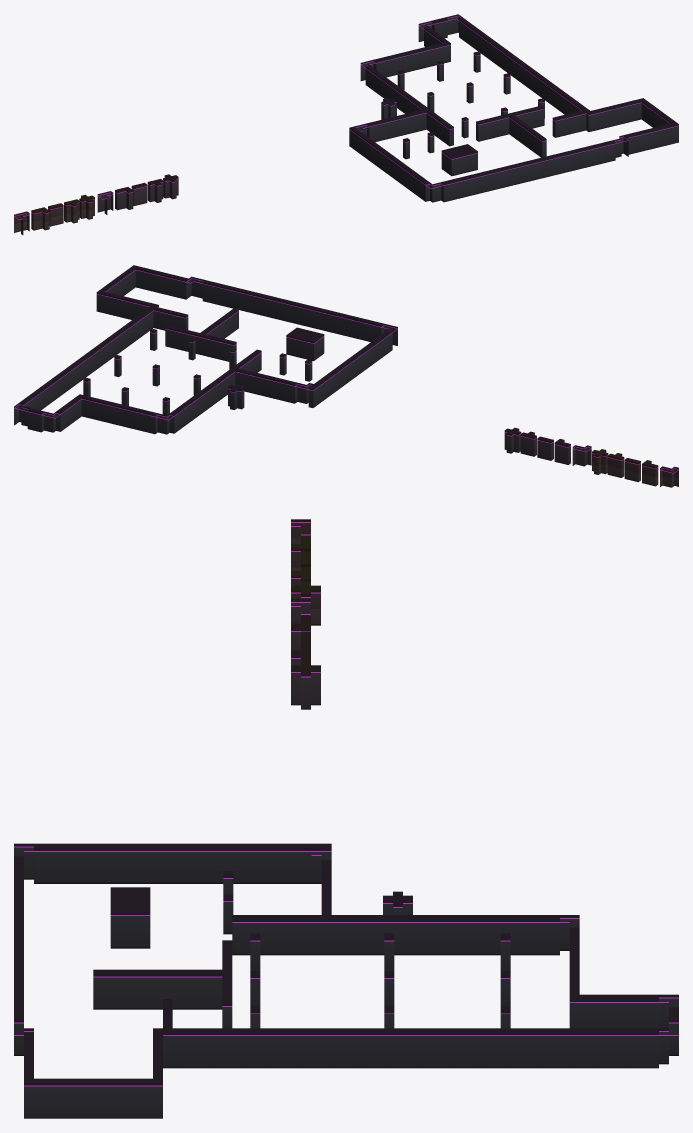
Rendered from blockout.fbx.
3 renders of one model, top to bottom at view 1: azimuth 30°, elevation 25°; view 2: azimuth 150°, elevation 25°; view 3: azimuth 270°, elevation 25°, orthographic. The views are drawn at different scales.
Visible parts, largest first — view 1: Wall.006, Wall.007, Wall.055, Wall.073; view 2: Wall.006, Wall.007, Wall.009, Wall.085, Wall.108; view 3: Wall.006, Wall.007, Wall.010, Wall.016, Wall.019, Wall.041, Wall.042, Wall.052, Wall.057, Wall.074, Wall.077, Wall.095 (+38 smaller).
Boxes of the visible parts, <box> form: Wall.006: <box>97,174,178,214</box>; Wall.007: <box>14,194,94,234</box>; Wall.055: <box>552,114,568,137</box>; Wall.073: <box>425,182,443,202</box>; Wall.006: <box>504,427,591,466</box>; Wall.007: <box>592,449,678,487</box>; Wall.009: <box>228,384,244,409</box>; Wall.085: <box>172,275,188,299</box>; Wall.108: <box>300,337,316,360</box>; Wall.006: <box>291,599,320,709</box>; Wall.007: <box>291,519,320,625</box>; Wall.010: <box>321,910,351,955</box>; Wall.016: <box>351,915,381,955</box>; Wall.019: <box>440,915,470,955</box>; Wall.041: <box>569,1028,599,1068</box>; Wall.042: <box>480,1028,510,1068</box>; Wall.052: <box>182,1028,212,1068</box>; Wall.057: <box>93,1078,123,1118</box>; Wall.074: <box>93,843,123,883</box>; Wall.077: <box>182,843,212,883</box>; Wall.095: <box>182,969,212,1009</box>.
Size of the model in its own units: 13436 by 400 by 6700.
